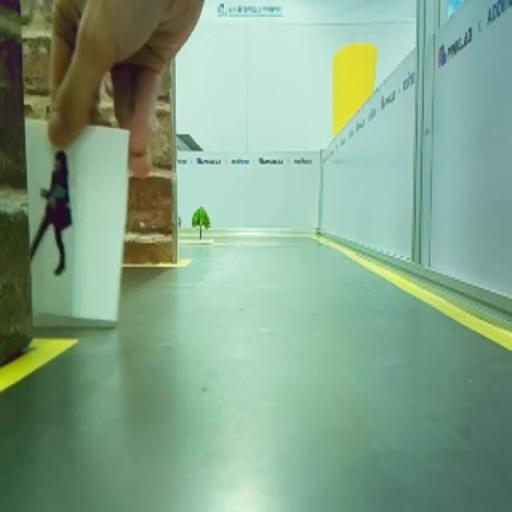human: (30, 151, 71, 274)
